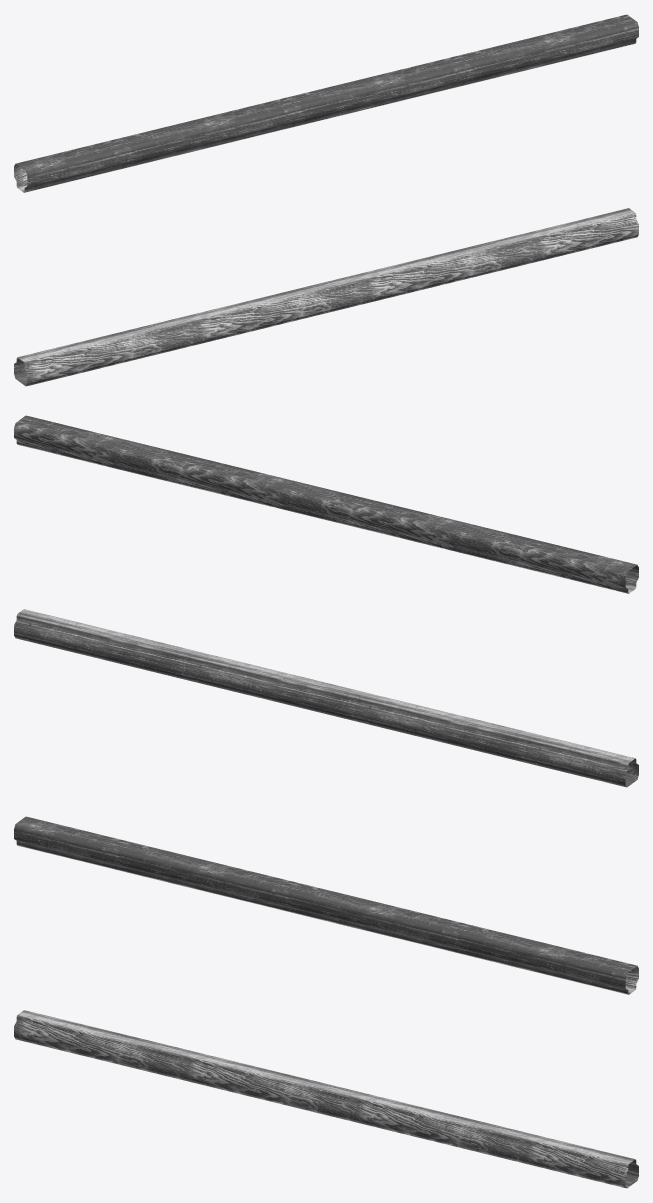
File: SM_Fence_A3_Splines_26.fbx
3 renders of one model, top to bottom at view 1: azimuth 30°, elevation 25°; view 2: azimuth 150°, elevation 25°; view 3: azimuth 330°, elevation 25°, orthographic.
Visible parts, largest first — view 1: SM_Fence_A3_Splines_26; view 2: SM_Fence_A3_Splines_26; view 3: SM_Fence_A3_Splines_26.
Boxes of the visible parts, left/top/right/bottom form: SM_Fence_A3_Splines_26: left=14, top=14, right=638, bottom=386; SM_Fence_A3_Splines_26: left=14, top=415, right=638, bottom=787; SM_Fence_A3_Splines_26: left=14, top=816, right=638, bottom=1188.
Size of the model in its own units: 173 by 6.56 by 58.09.
1 material, 1 textured.
